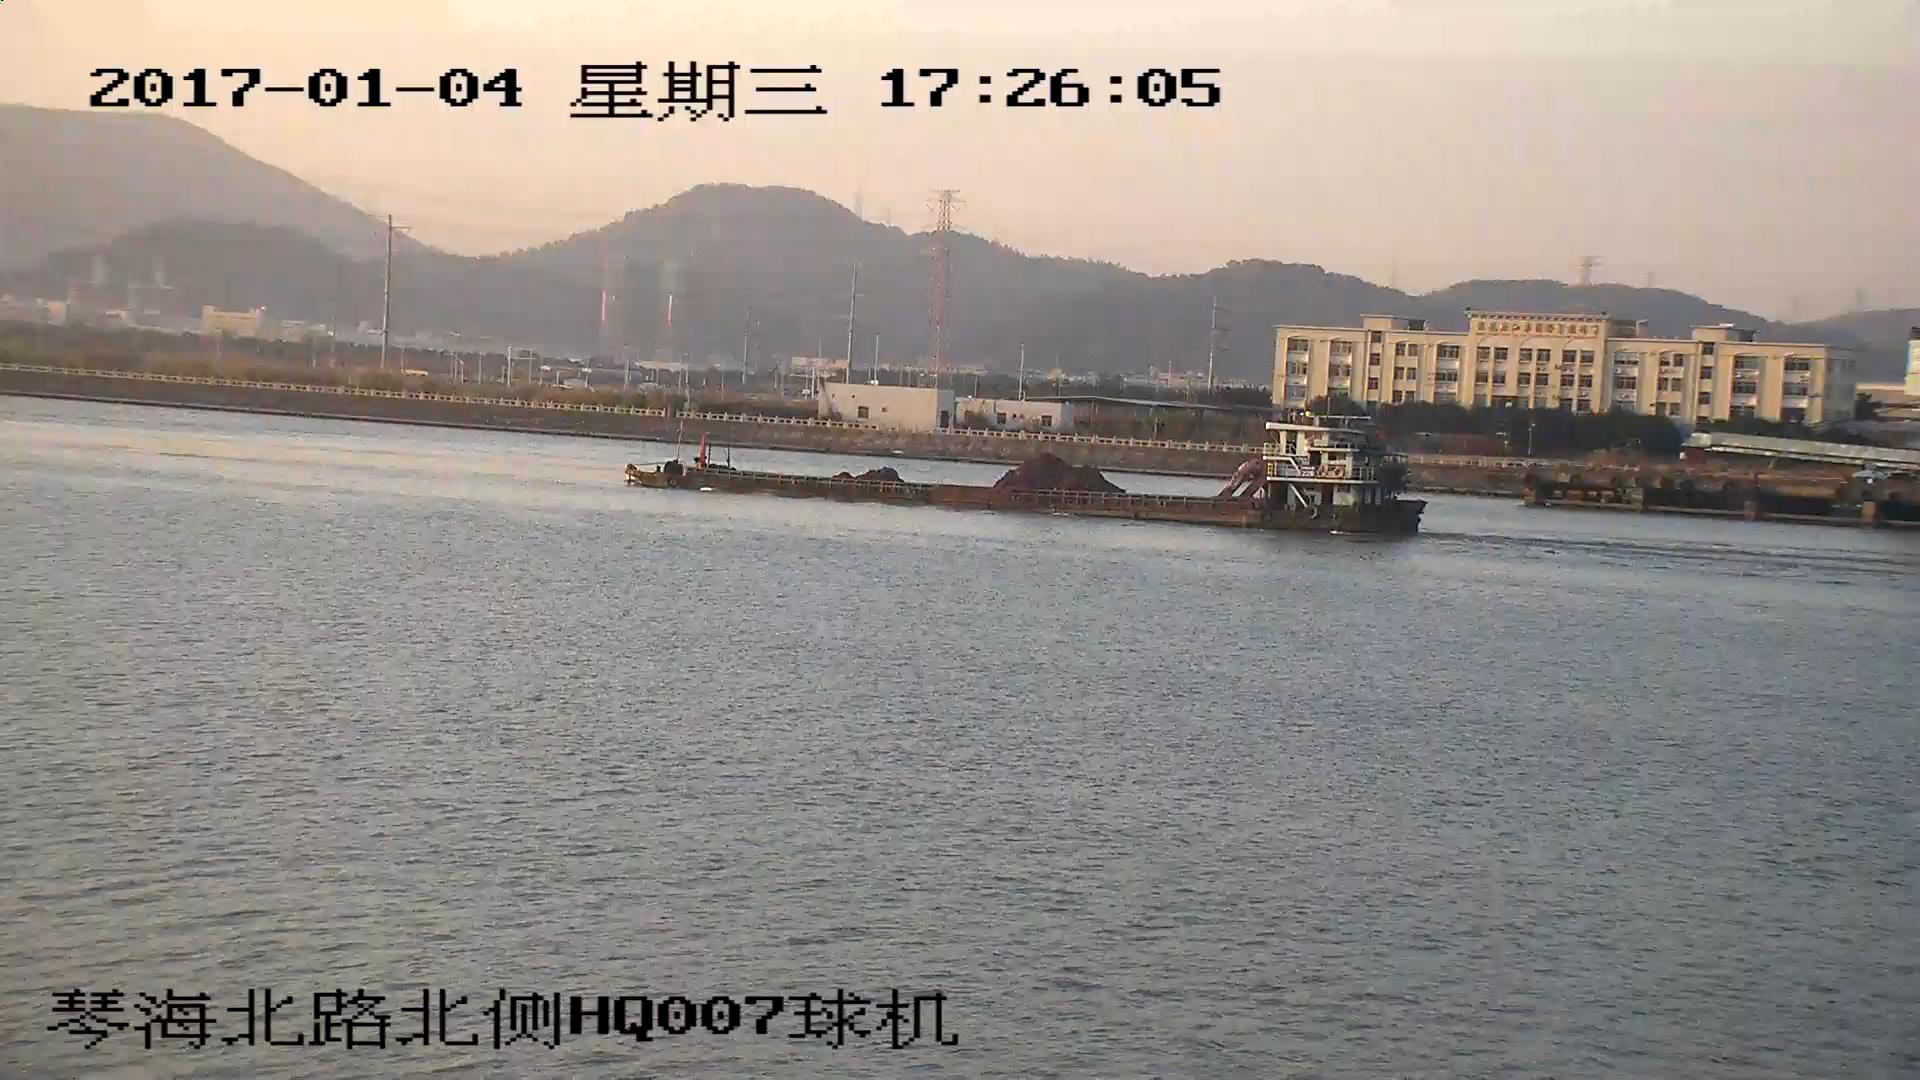ore carrier: (625, 417, 1423, 537)
